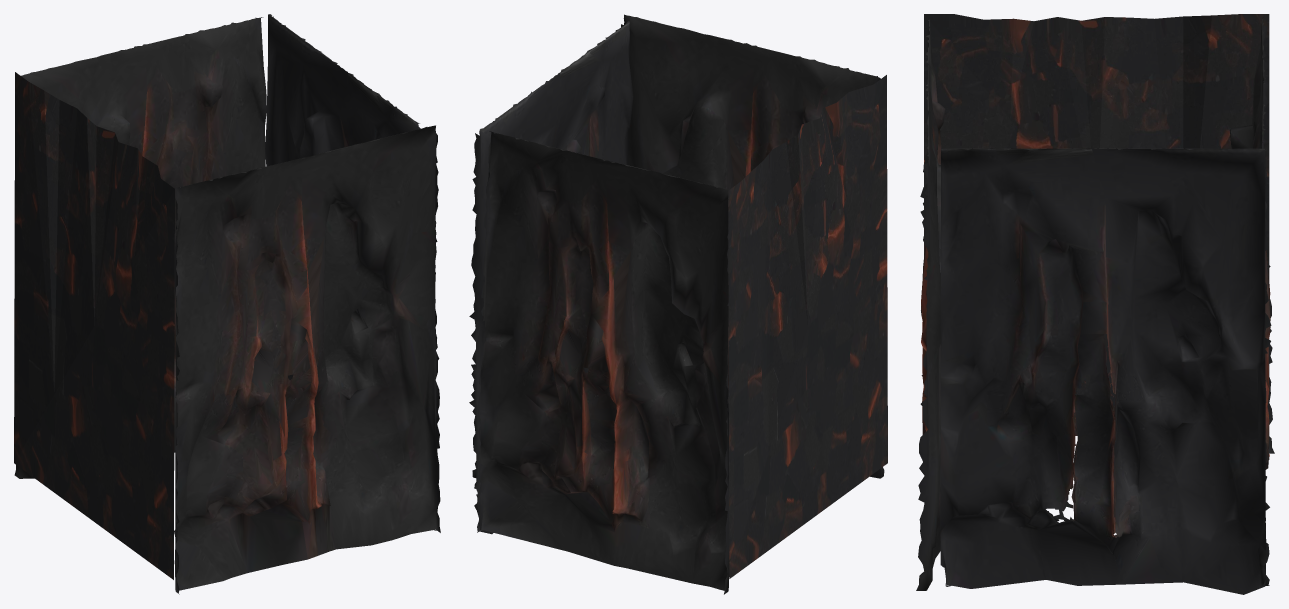
The model's file is walls.glb.
3 views of the same model, side by side, from view 1: azimuth 30°, elevation 25°; view 2: azimuth 150°, elevation 25°; view 3: azimuth 270°, elevation 25° (orthographic). The views are drawn at different scales.
Visible parts, largest first — view 1: walls; view 2: walls; view 3: walls.
Part boxes in pixels (x1=…): walls: x1=14, y1=14, x2=440, y2=594; walls: x1=469, y1=14, x2=887, y2=594; walls: x1=916, y1=14, x2=1274, y2=594.
Bounding box in the file's own units: 1.33 × 1.95 × 1.41.
Materials: 1 (1 with a texture image).
